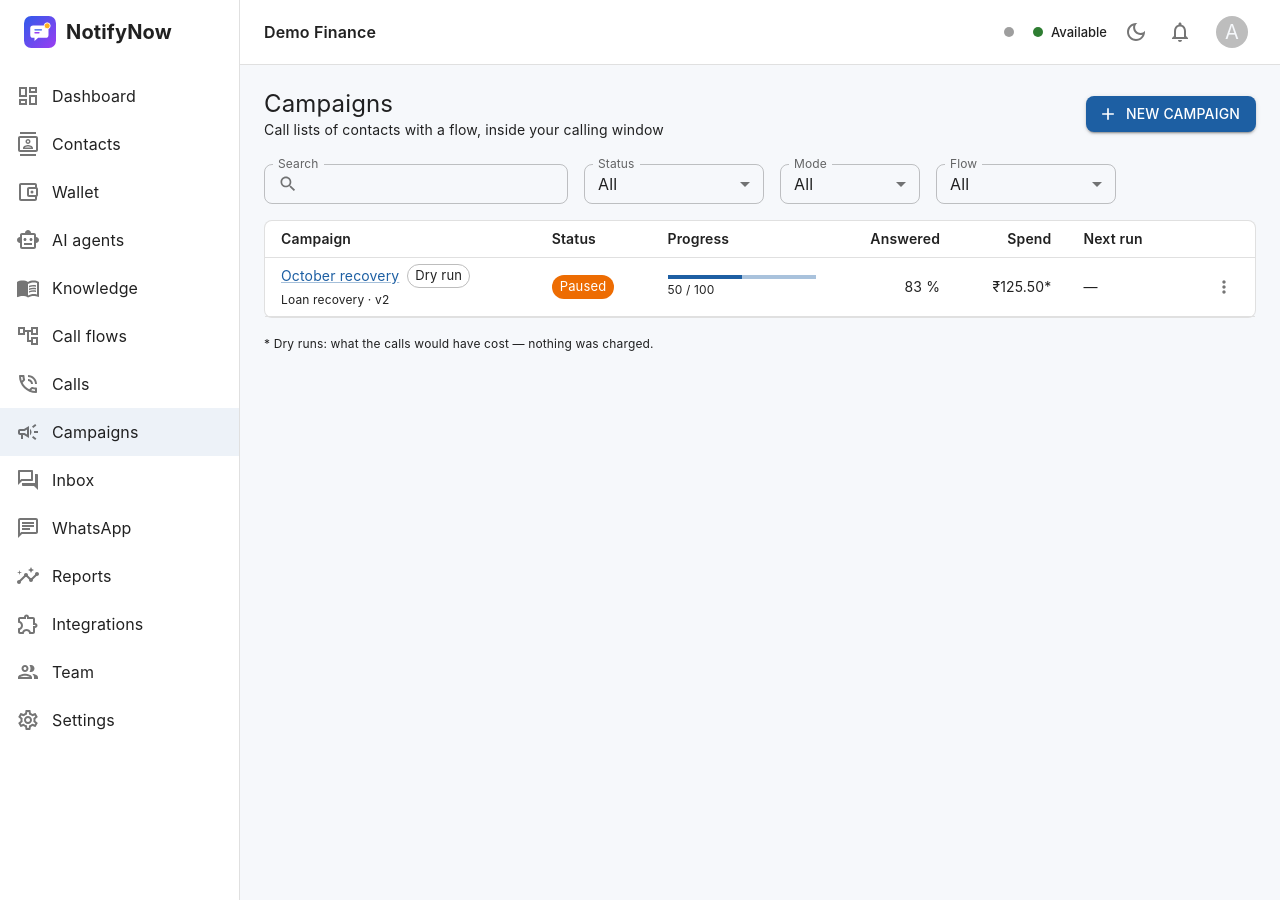
/campaigns list › a campaign paused by the platform team cannot be resumed from the menu
Click the button named "Actions for October recovery".
click(1224, 287)  # box left=1209, top=272, right=1239, bottom=302
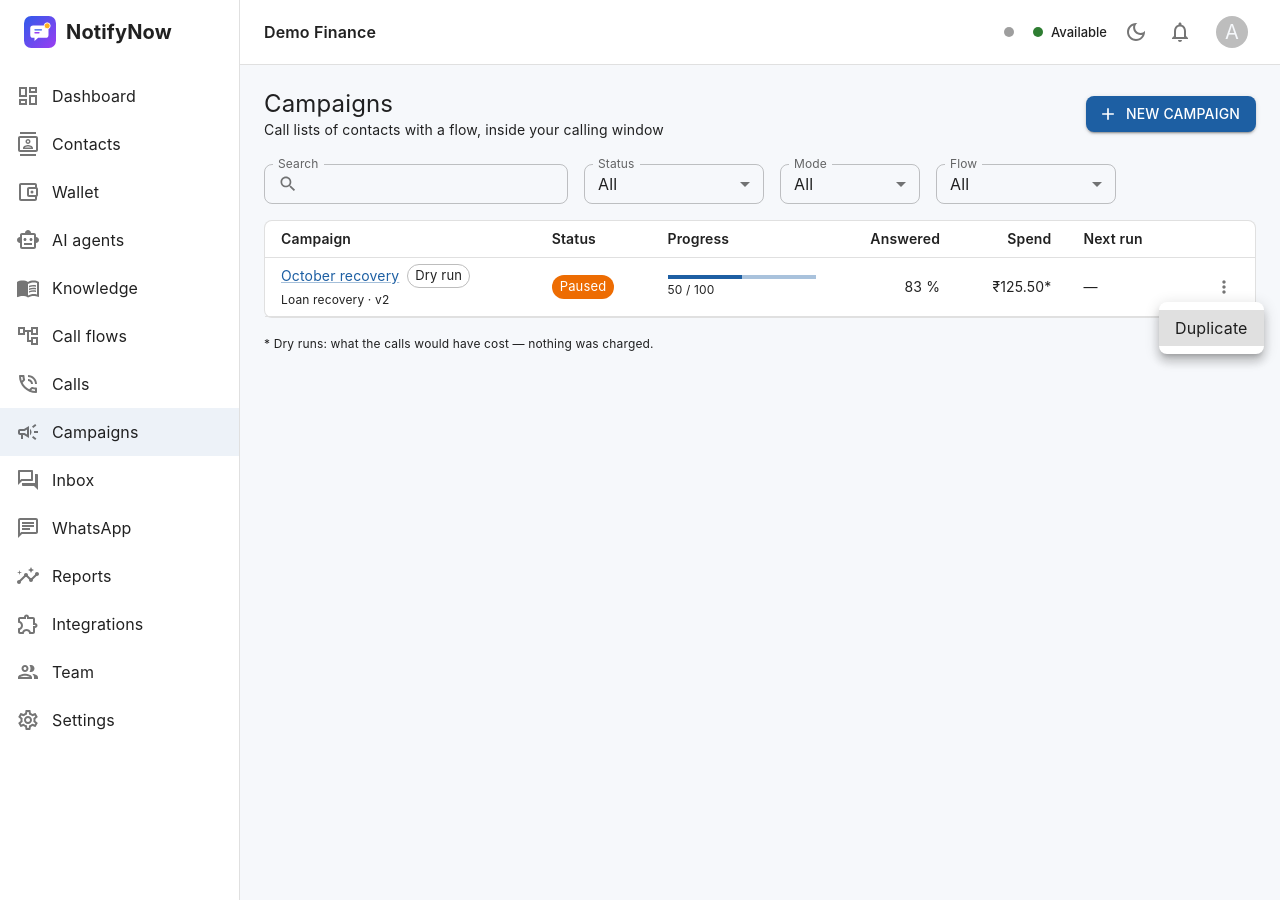
Expected: the menu item "Duplicate" is shown, left=1159, top=310, right=1264, bottom=346
